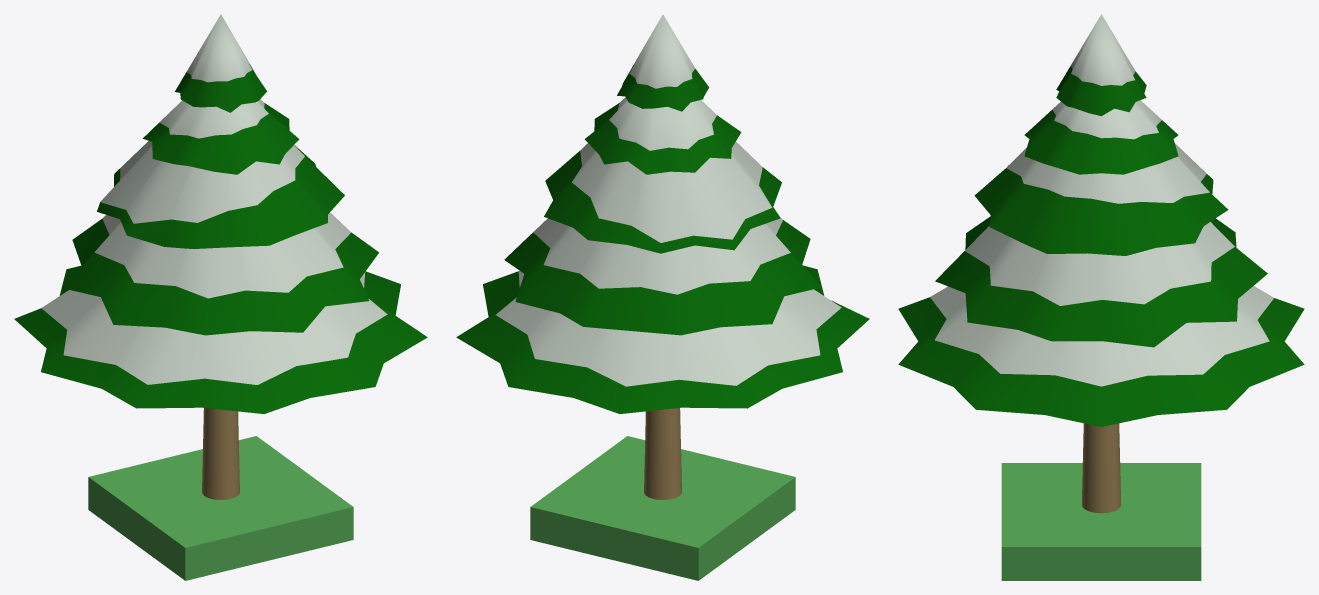
The model's file is ki(yuki)4.fbx.
3 views of the same model, side by side, from view 1: azimuth 30°, elevation 25°; view 2: azimuth 150°, elevation 25°; view 3: azimuth 270°, elevation 25° (orthographic). The views are drawn at different scales.
Parts seen in each view (by area): view 1: group6_pasted__group1_pasted__pasted__pCone1, pCube1, pCylinder1; view 2: group6_pasted__group1_pasted__pasted__pCone1, pCube1, pCylinder1; view 3: group6_pasted__group1_pasted__pasted__pCone1, pCube1, pCylinder1.
Boxes of the visible parts, box(x1,y1,x2,y2) form: group6_pasted__group1_pasted__pasted__pCone1: box(14, 14, 427, 413); pCube1: box(88, 436, 353, 580); pCylinder1: box(202, 408, 239, 499); group6_pasted__group1_pasted__pasted__pCone1: box(456, 14, 869, 413); pCube1: box(530, 436, 795, 580); pCylinder1: box(644, 408, 681, 499); group6_pasted__group1_pasted__pasted__pCone1: box(898, 14, 1304, 426); pCube1: box(1001, 463, 1201, 580); pCylinder1: box(1081, 423, 1121, 513).
Size of the model in its own units: 10.93 by 14.81 by 10.39.
